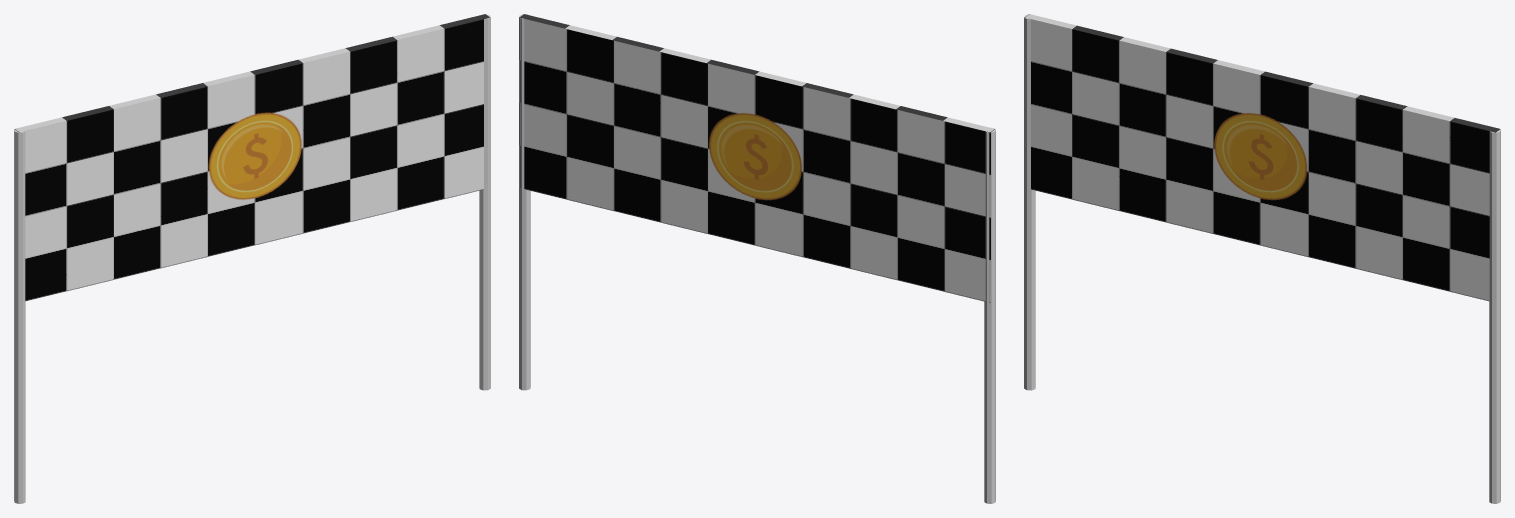
File: Flag.fbx
3 renders of one model, left to right at view 1: azimuth 30°, elevation 25°; view 2: azimuth 150°, elevation 25°; view 3: azimuth 330°, elevation 25°, orthographic.
Visible parts, largest first — view 1: Flag, Cylinder.002, Cylinder.001; view 2: Flag, Cylinder.002, Cylinder.001; view 3: Flag, Cylinder.001, Cylinder.002.
Boxes of the visible parts, left/top/right/bottom form: Flag: left=14, top=14, right=489, bottom=301; Cylinder.002: left=14, top=128, right=25, bottom=503; Cylinder.001: left=479, top=14, right=490, bottom=390; Flag: left=519, top=14, right=994, bottom=302; Cylinder.002: left=984, top=127, right=995, bottom=503; Cylinder.001: left=519, top=14, right=530, bottom=390; Flag: left=1025, top=14, right=1500, bottom=301; Cylinder.001: left=1489, top=128, right=1500, bottom=503; Cylinder.002: left=1024, top=14, right=1035, bottom=390.
Size of the model in its own units: 3159 by 2357 by 69.76.
